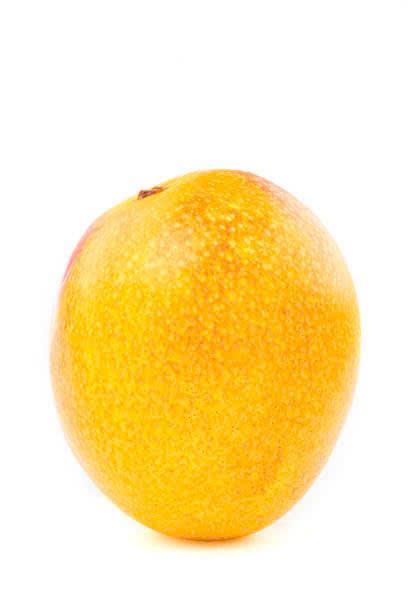mango: (46, 162, 363, 556)
